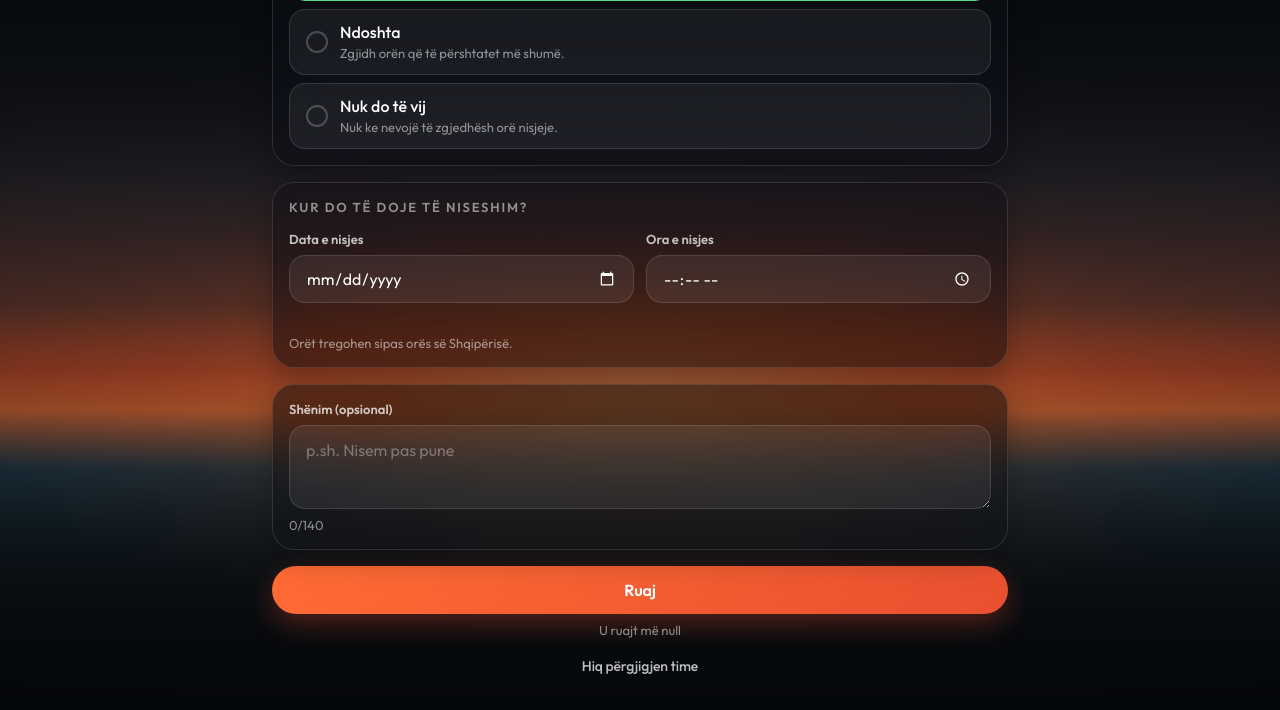
Scenario: <MyResponseScreen> › confirms before withdrawing
(page scrolled)
What coordinates should you click on to do the following:
click the button "Hiq përgjigjen time"
I would click on:
 (640, 666)
Its box is [272, 646, 1008, 686].
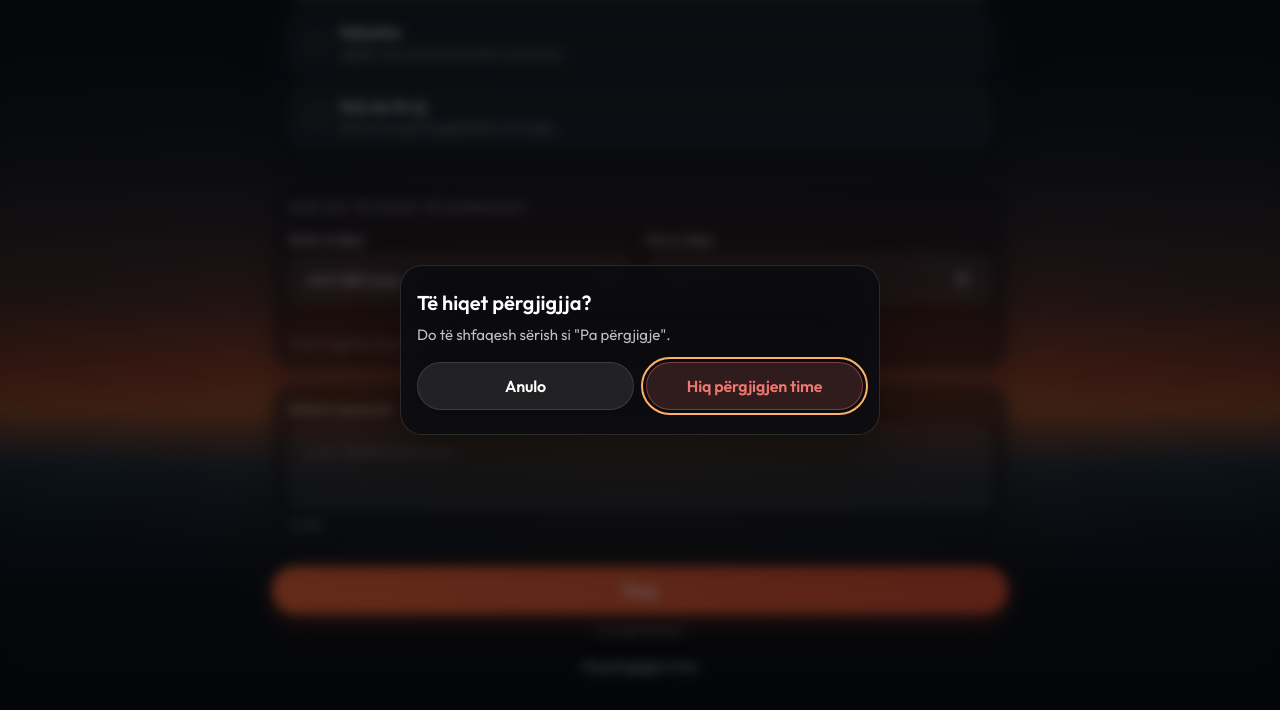
Check: the dialog is shown, box [400, 265, 880, 435]
